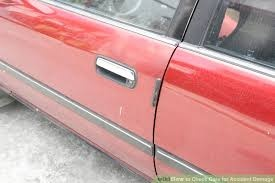Scratch: (117, 104, 126, 119)
